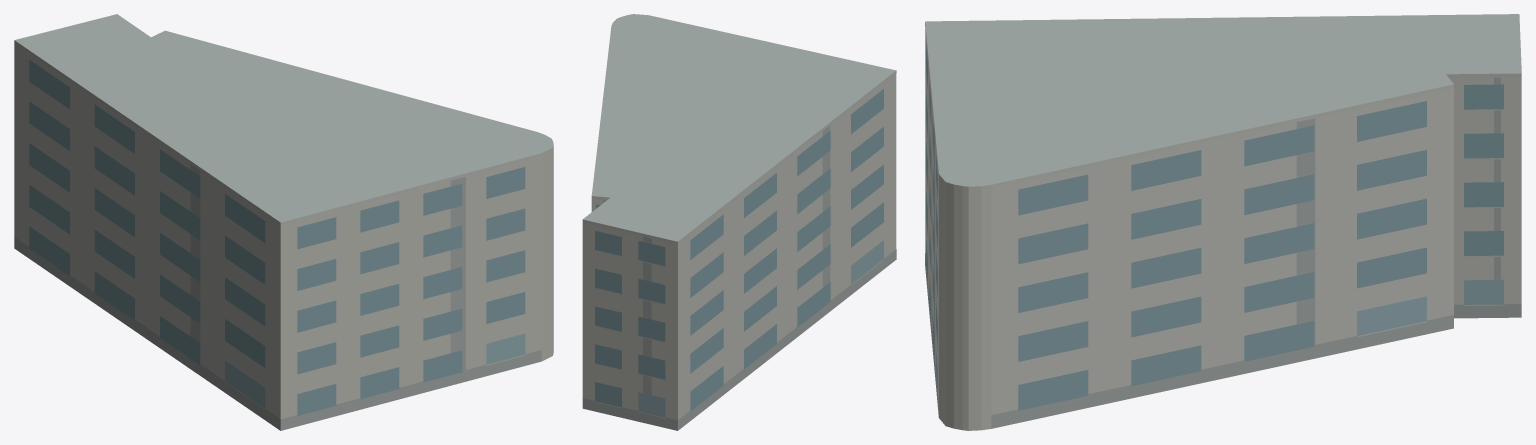
Rendered from survey-upis-32805838.glb.
The picture shows the model from 3 angles, left to right: view 1: azimuth 30°, elevation 25°; view 2: azimuth 150°, elevation 25°; view 3: azimuth 270°, elevation 25°; orthographic projection. The views are drawn at different scales.
Visible parts, largest first — view 1: survey-upis-32805838.tmp; view 2: survey-upis-32805838.tmp; view 3: survey-upis-32805838.tmp.
Boxes of the visible parts, x1,y1,x2,y2 form: survey-upis-32805838.tmp: (14,14,553,430); survey-upis-32805838.tmp: (582,14,896,430); survey-upis-32805838.tmp: (925,14,1521,430).
Size of the model in its own units: 23.15 by 15.25 by 33.79.
